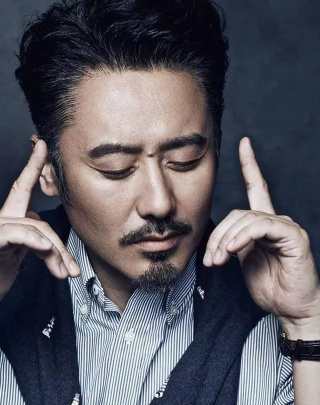male: (12, 19, 248, 290)
